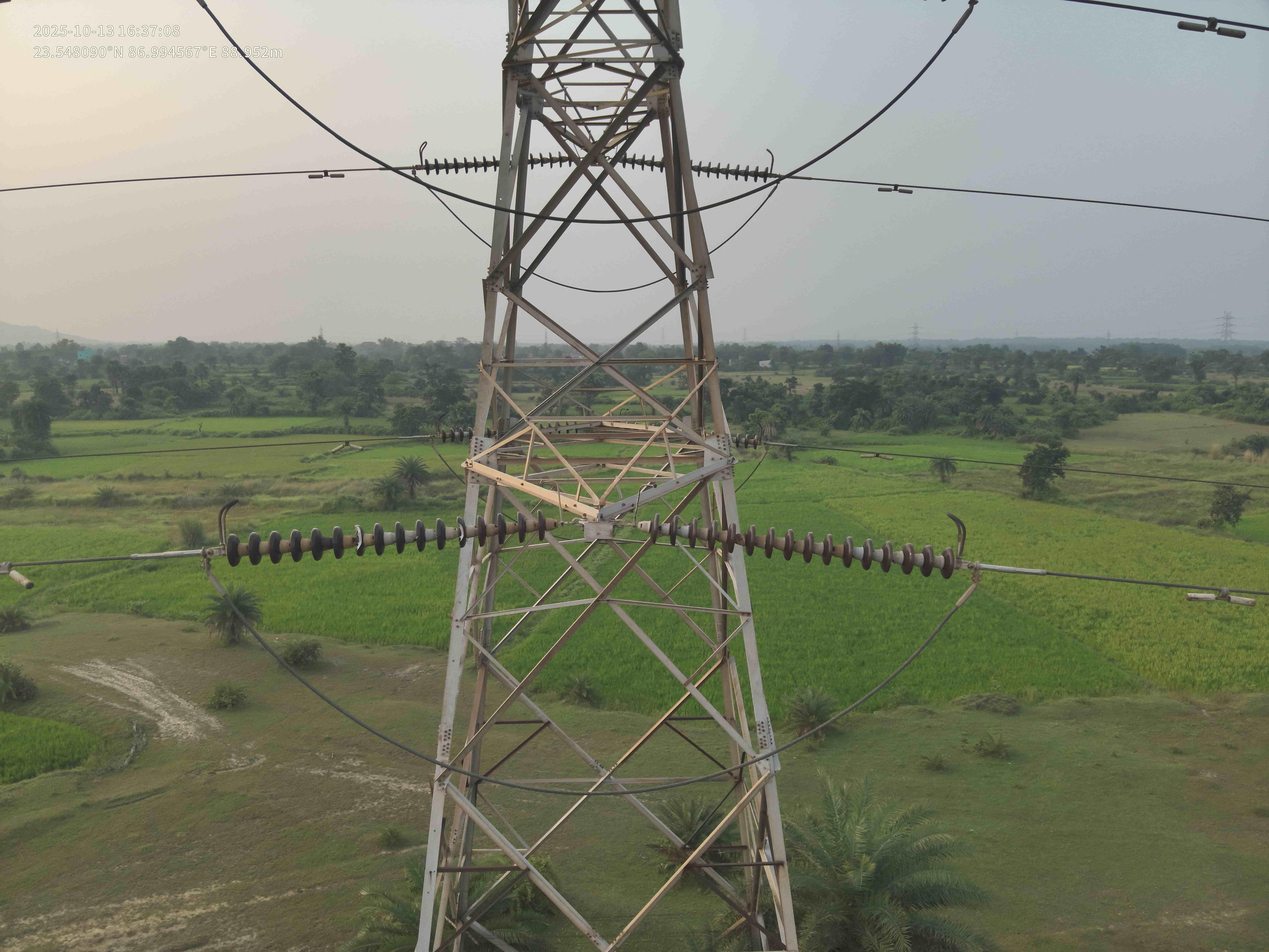broken_insulator: (354, 524, 365, 557), (456, 516, 467, 548), (539, 152, 544, 170)
